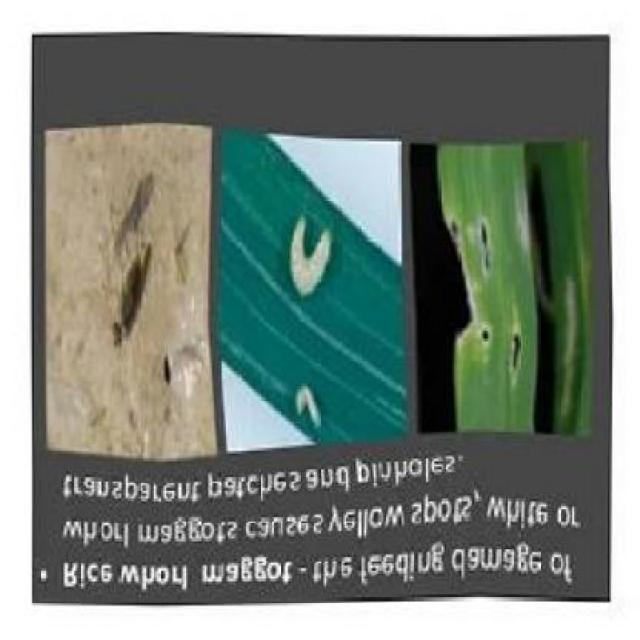whorl-maggot: (286, 209, 340, 303), (289, 377, 325, 440)
